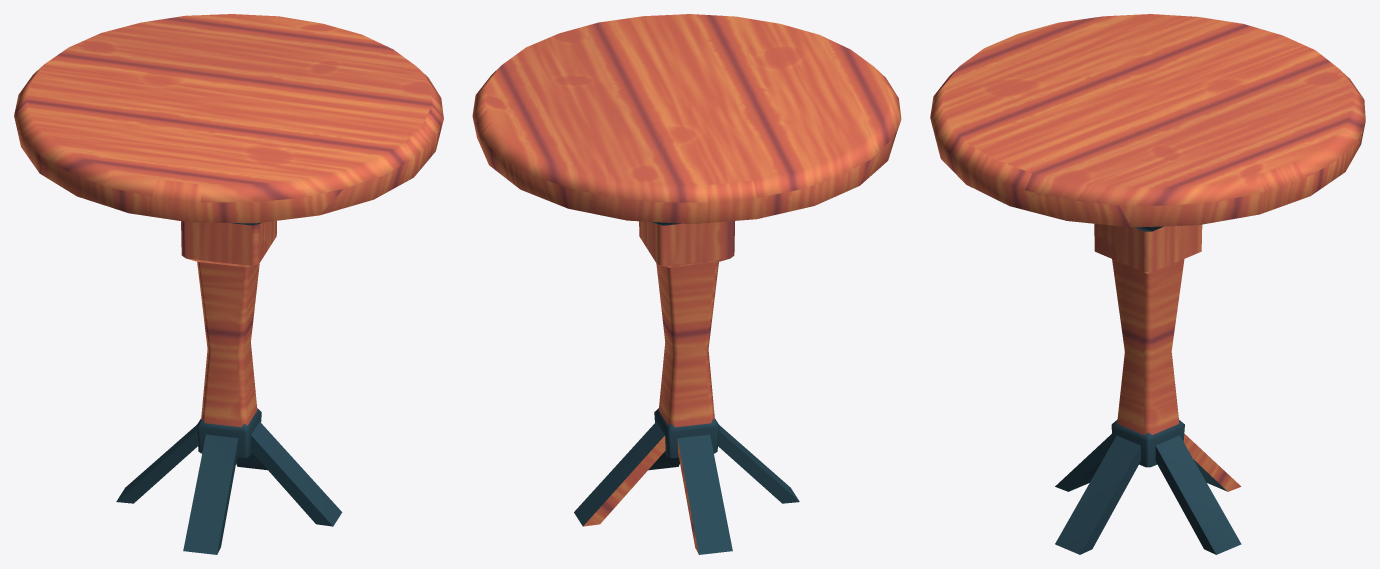
Rendered from Table.fbx.
3 renders of one model, left to right at view 1: azimuth 30°, elevation 25°; view 2: azimuth 150°, elevation 25°; view 3: azimuth 270°, elevation 25°, orthographic.
Parts seen in each view (by area): view 1: Table; view 2: Table; view 3: Table.
Boxes of the visible parts, x1,y1,x2,y2 form: Table: (14, 14, 443, 554); Table: (472, 14, 901, 554); Table: (930, 14, 1365, 554).
Size of the model in its own units: 0.8813 by 0.9241 by 0.8807.
